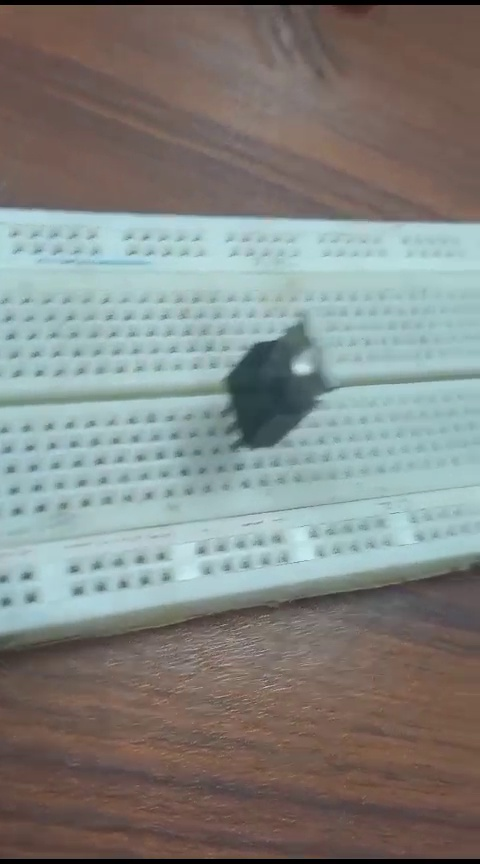voltage regulator: (208, 316, 333, 480)
